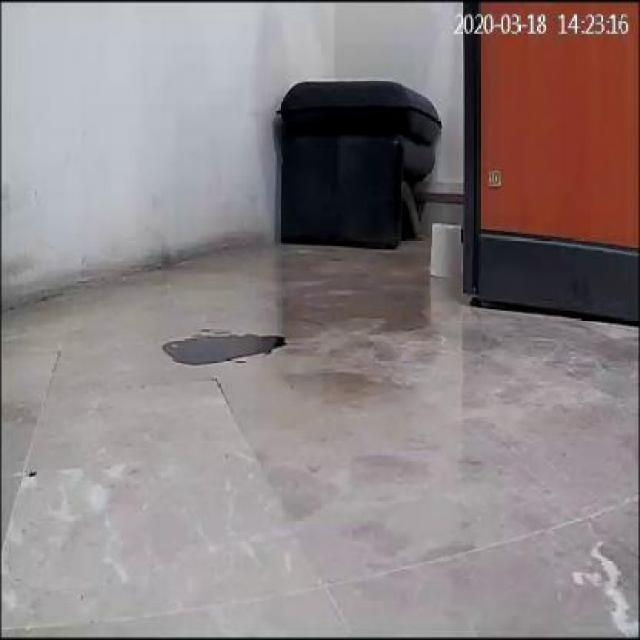spill: (160, 330, 285, 364)
